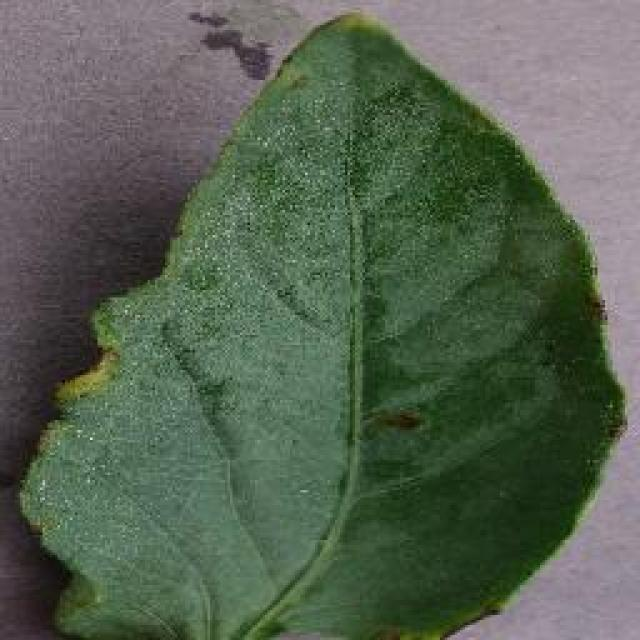Tomato___Bacterial_spot: (17, 5, 631, 638)
